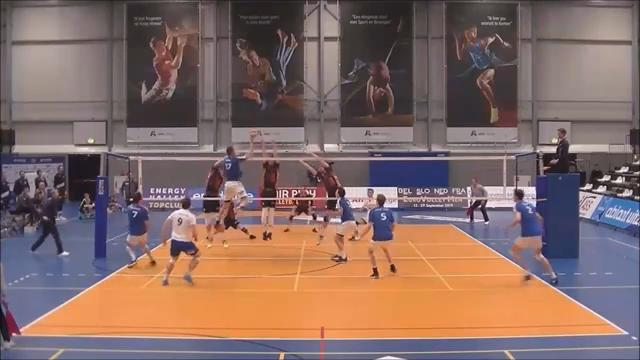Attack: (210, 134, 255, 227)
Block: (293, 141, 340, 247), (191, 148, 227, 244), (258, 137, 283, 244)
Player: (508, 189, 557, 284), (161, 198, 200, 285), (362, 194, 396, 278), (126, 192, 155, 267), (332, 187, 355, 262), (216, 203, 255, 239), (349, 188, 376, 240), (284, 190, 316, 231)
ball: (248, 130, 259, 139)
